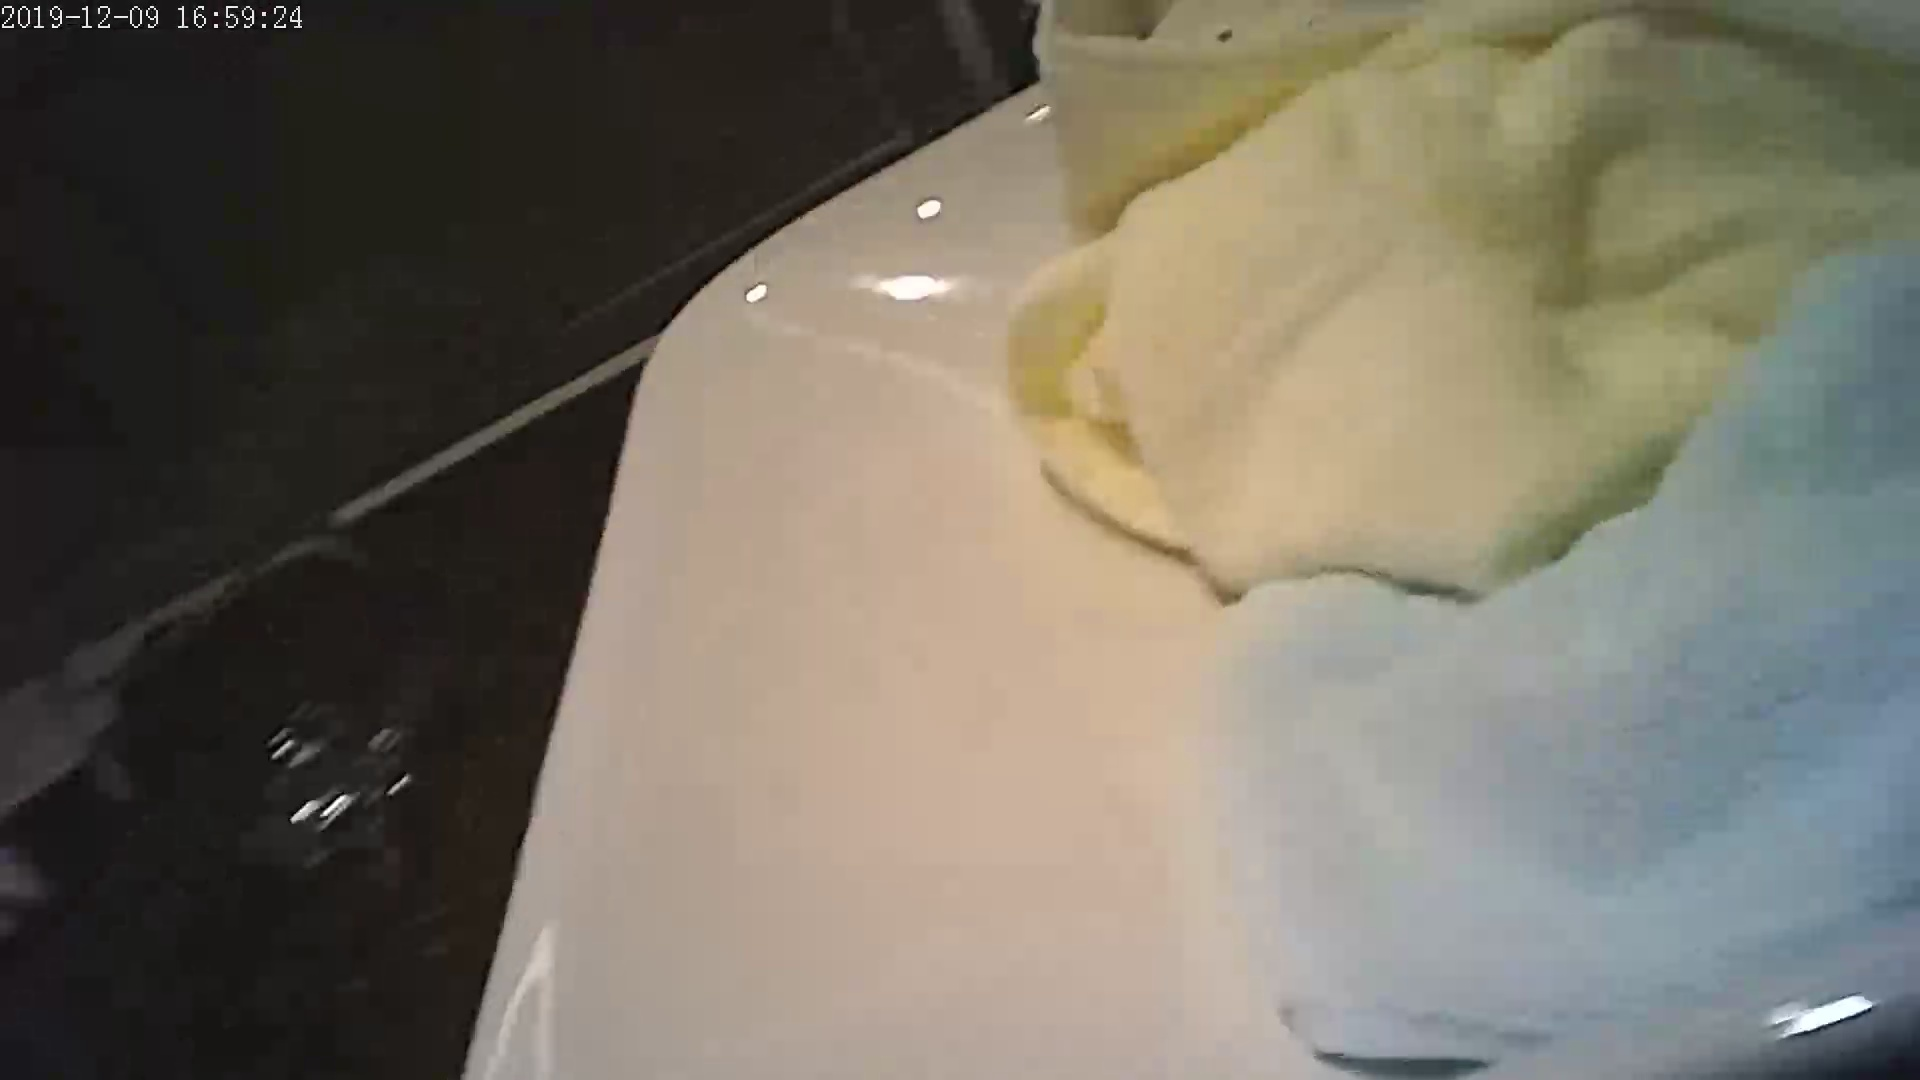bluecloth: (1271, 539, 1905, 1048)
sink: (463, 47, 1890, 1062)
yellowcloth: (1013, 51, 1668, 547)
